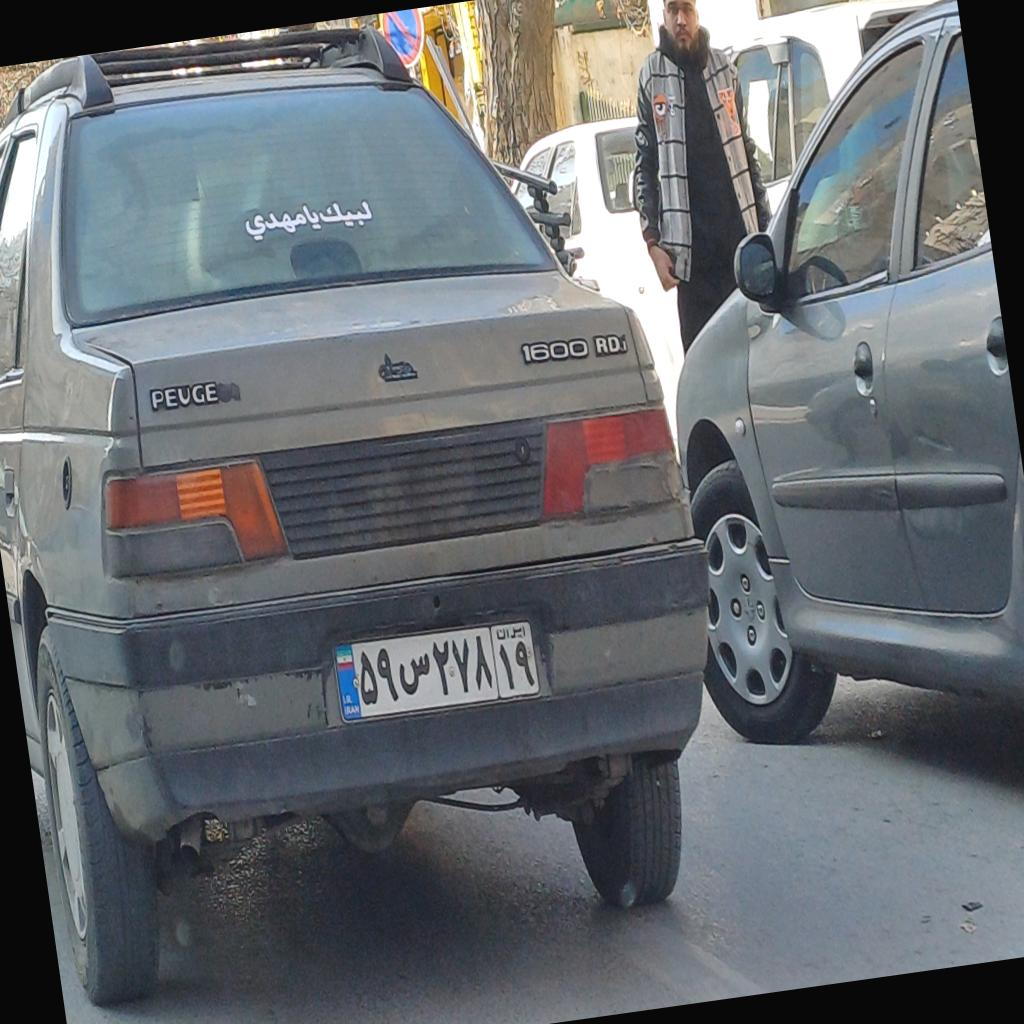Plates: (332, 619, 542, 723)
